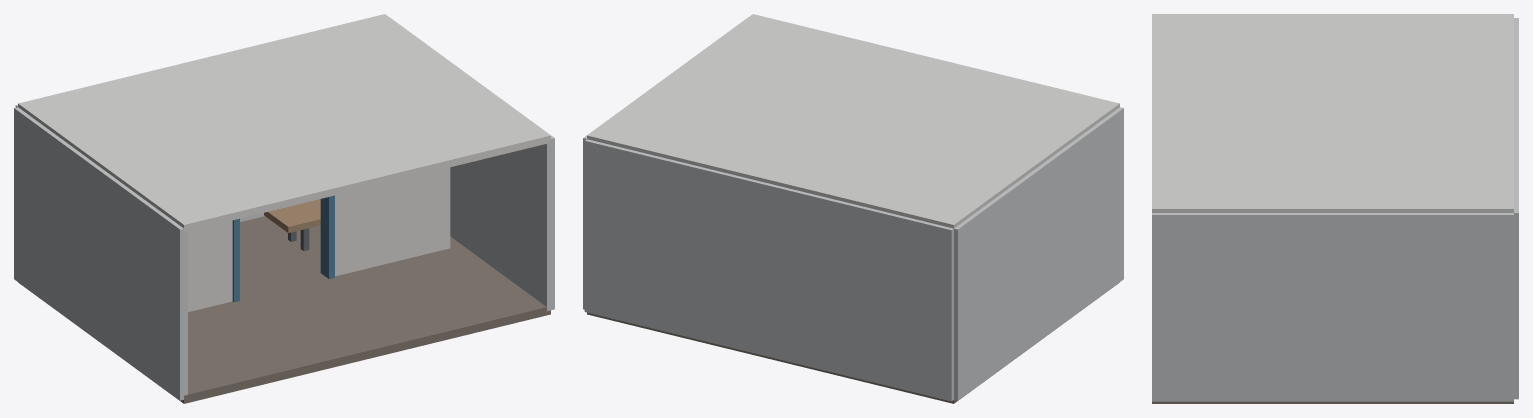
File: divisoria-drywall.glb
The picture shows the model from 3 angles, left to right: view 1: azimuth 30°, elevation 25°; view 2: azimuth 150°, elevation 25°; view 3: azimuth 270°, elevation 25°; orthographic projection. The views are drawn at different scales.
Visible parts, largest first — view 1: divisoria-drywall_001, divisoria-drywall_000, divisoria-drywall_003, divisoria-drywall_004, divisoria-drywall_006, divisoria-drywall_005, divisoria-drywall_012, divisoria-drywall_009, divisoria-drywall_008; view 2: divisoria-drywall_002, divisoria-drywall_001, divisoria-drywall_003, divisoria-drywall_000; view 3: divisoria-drywall_001, divisoria-drywall_004, divisoria-drywall_002, divisoria-drywall_000.
Part boxes in pixels (x1,y1,x2,y2): divisoria-drywall_001: (18,14,550,232); divisoria-drywall_000: (18,216,550,403); divisoria-drywall_003: (14,107,187,400); divisoria-drywall_004: (389,17,554,311); divisoria-drywall_006: (335,167,450,276); divisoria-drywall_005: (188,220,232,312); divisoria-drywall_012: (264,199,320,232); divisoria-drywall_009: (320,195,334,279); divisoria-drywall_008: (232,218,239,302); divisoria-drywall_002: (584,139,953,401); divisoria-drywall_001: (587,14,1119,228); divisoria-drywall_003: (954,107,1123,400); divisoria-drywall_000: (587,282,1119,403); divisoria-drywall_001: (1152,14,1513,212); divisoria-drywall_004: (1152,213,1513,401); divisoria-drywall_002: (1514,18,1518,399); divisoria-drywall_000: (1152,401,1513,403).
Size of the model in its own units: 7.56 by 3.45 by 5.88.
